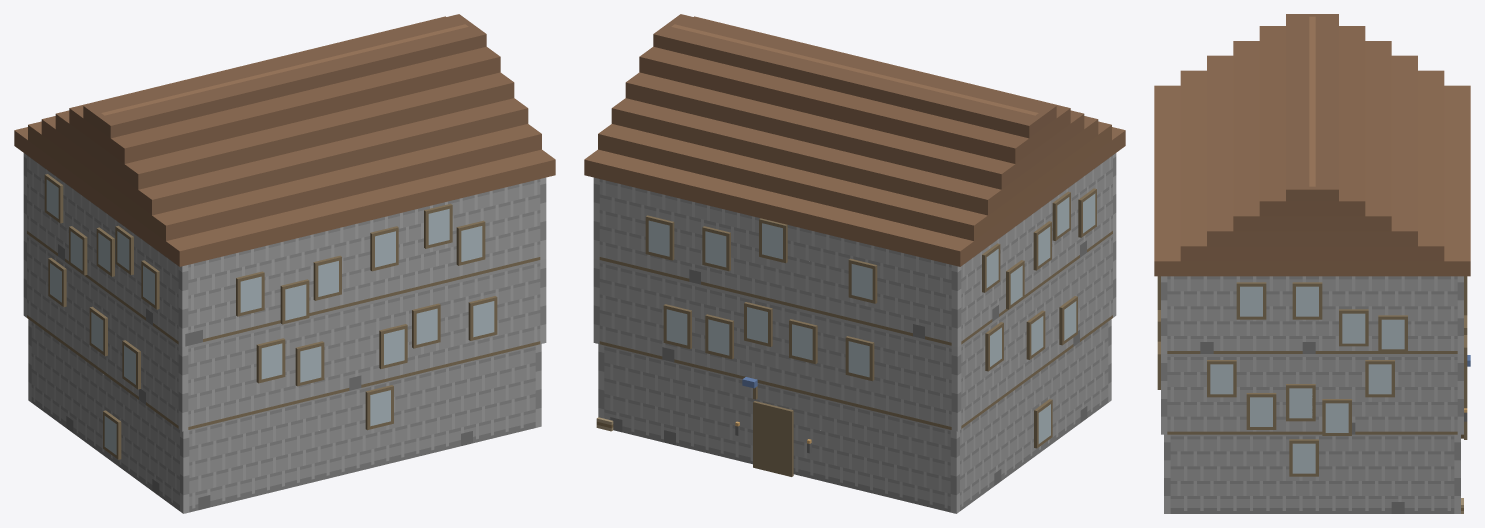
Rendered from posada_02.glb.
The picture shows the model from 3 angles, left to right: view 1: azimuth 30°, elevation 25°; view 2: azimuth 150°, elevation 25°; view 3: azimuth 270°, elevation 25°; orthographic projection. The views are drawn at different scales.
Visible parts, largest first — view 1: posada_02; view 2: posada_02; view 3: posada_02.
Part boxes in pixels (<box>): posada_02: <box>14,14,555,513</box>; posada_02: <box>584,14,1125,513</box>; posada_02: <box>1154,14,1470,513</box>.
Size of the model in its own units: 12.6 by 11 by 9.6.
